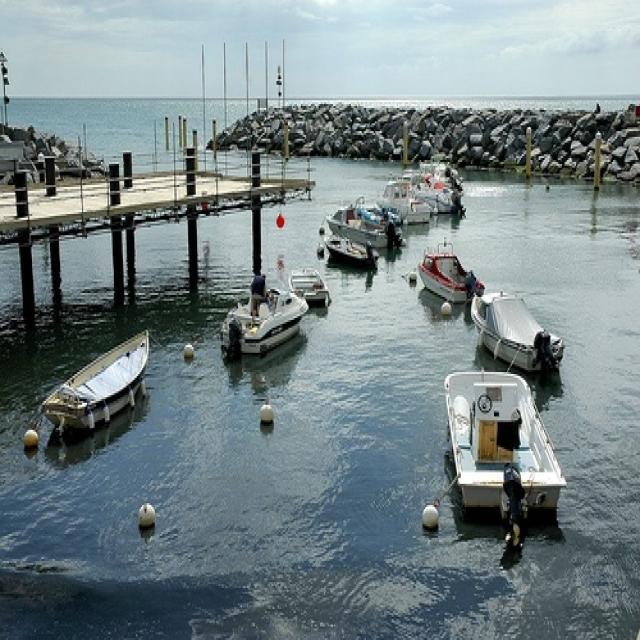boat: (444, 366, 567, 555), (41, 328, 150, 432), (471, 287, 565, 376), (219, 274, 308, 362), (417, 235, 485, 305), (324, 200, 407, 250), (371, 176, 434, 226), (321, 231, 379, 272), (287, 268, 330, 306)
